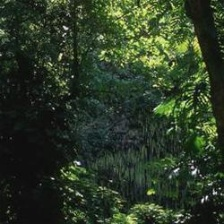neutral: (4, 1, 223, 224)
